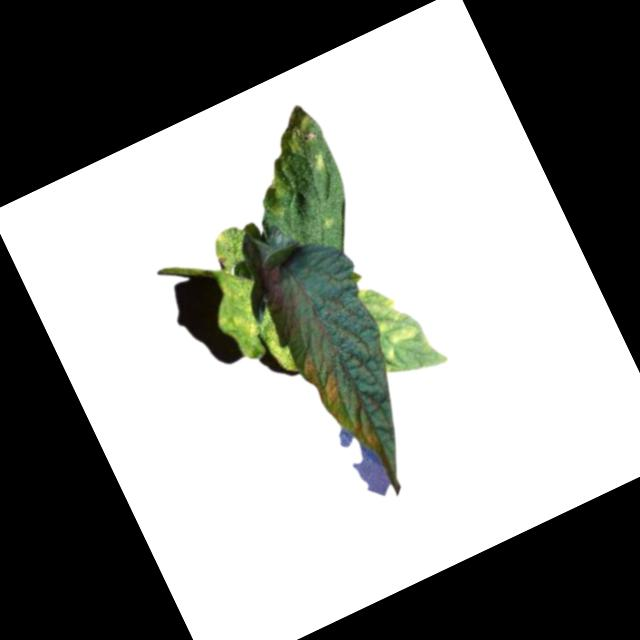Leaf_Mold: (232, 99, 347, 220), (199, 260, 299, 390), (351, 273, 430, 373), (299, 346, 356, 419), (350, 414, 385, 456)
